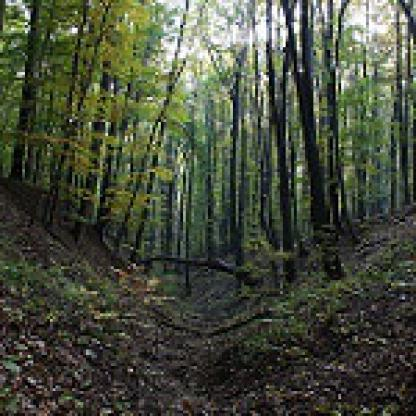road: (138, 264, 238, 414)
tree: (78, 0, 152, 233)
trunk: (288, 0, 330, 228), (6, 0, 44, 183)
